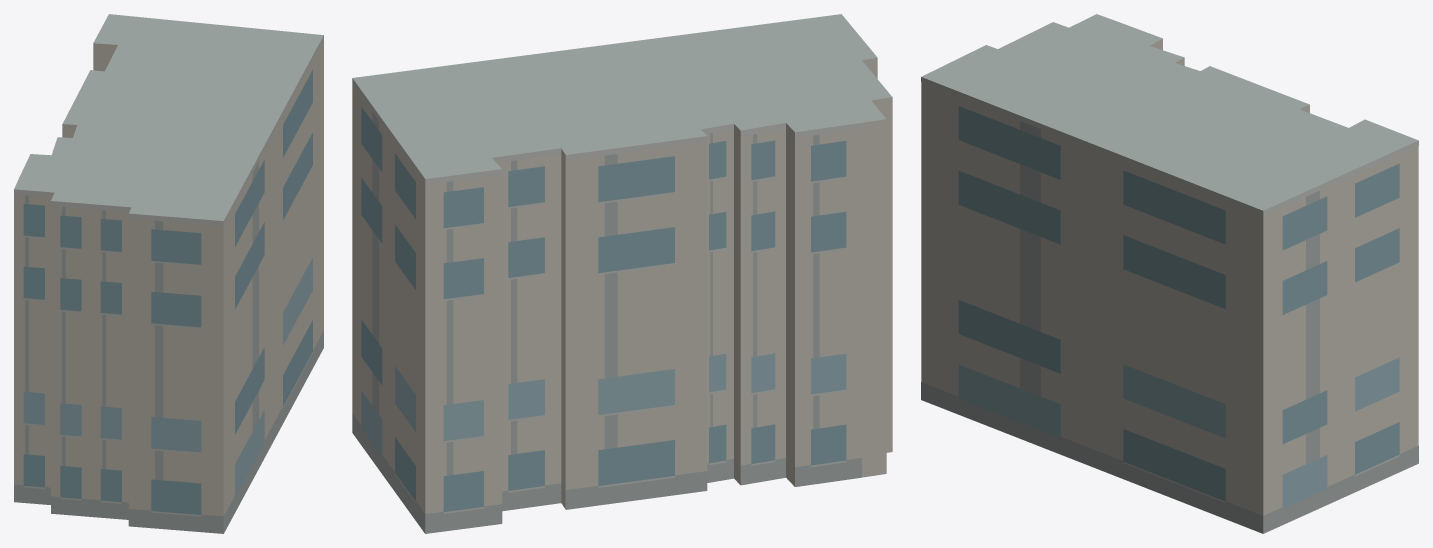
File: survey-upis-32469607.glb
3 renders of one model, left to right at view 1: azimuth 30°, elevation 25°; view 2: azimuth 150°, elevation 25°; view 3: azimuth 270°, elevation 25°, orthographic. The views are drawn at different scales.
Visible parts, largest first — view 1: survey-upis-32469607.tmp; view 2: survey-upis-32469607.tmp; view 3: survey-upis-32469607.tmp.
Part boxes in pixels (x1,y1,x2,y2): survey-upis-32469607.tmp: (14, 14, 323, 533); survey-upis-32469607.tmp: (352, 14, 892, 533); survey-upis-32469607.tmp: (921, 14, 1418, 533).
Bounding box in the file's own units: 19.53 × 14.95 × 20.87.
